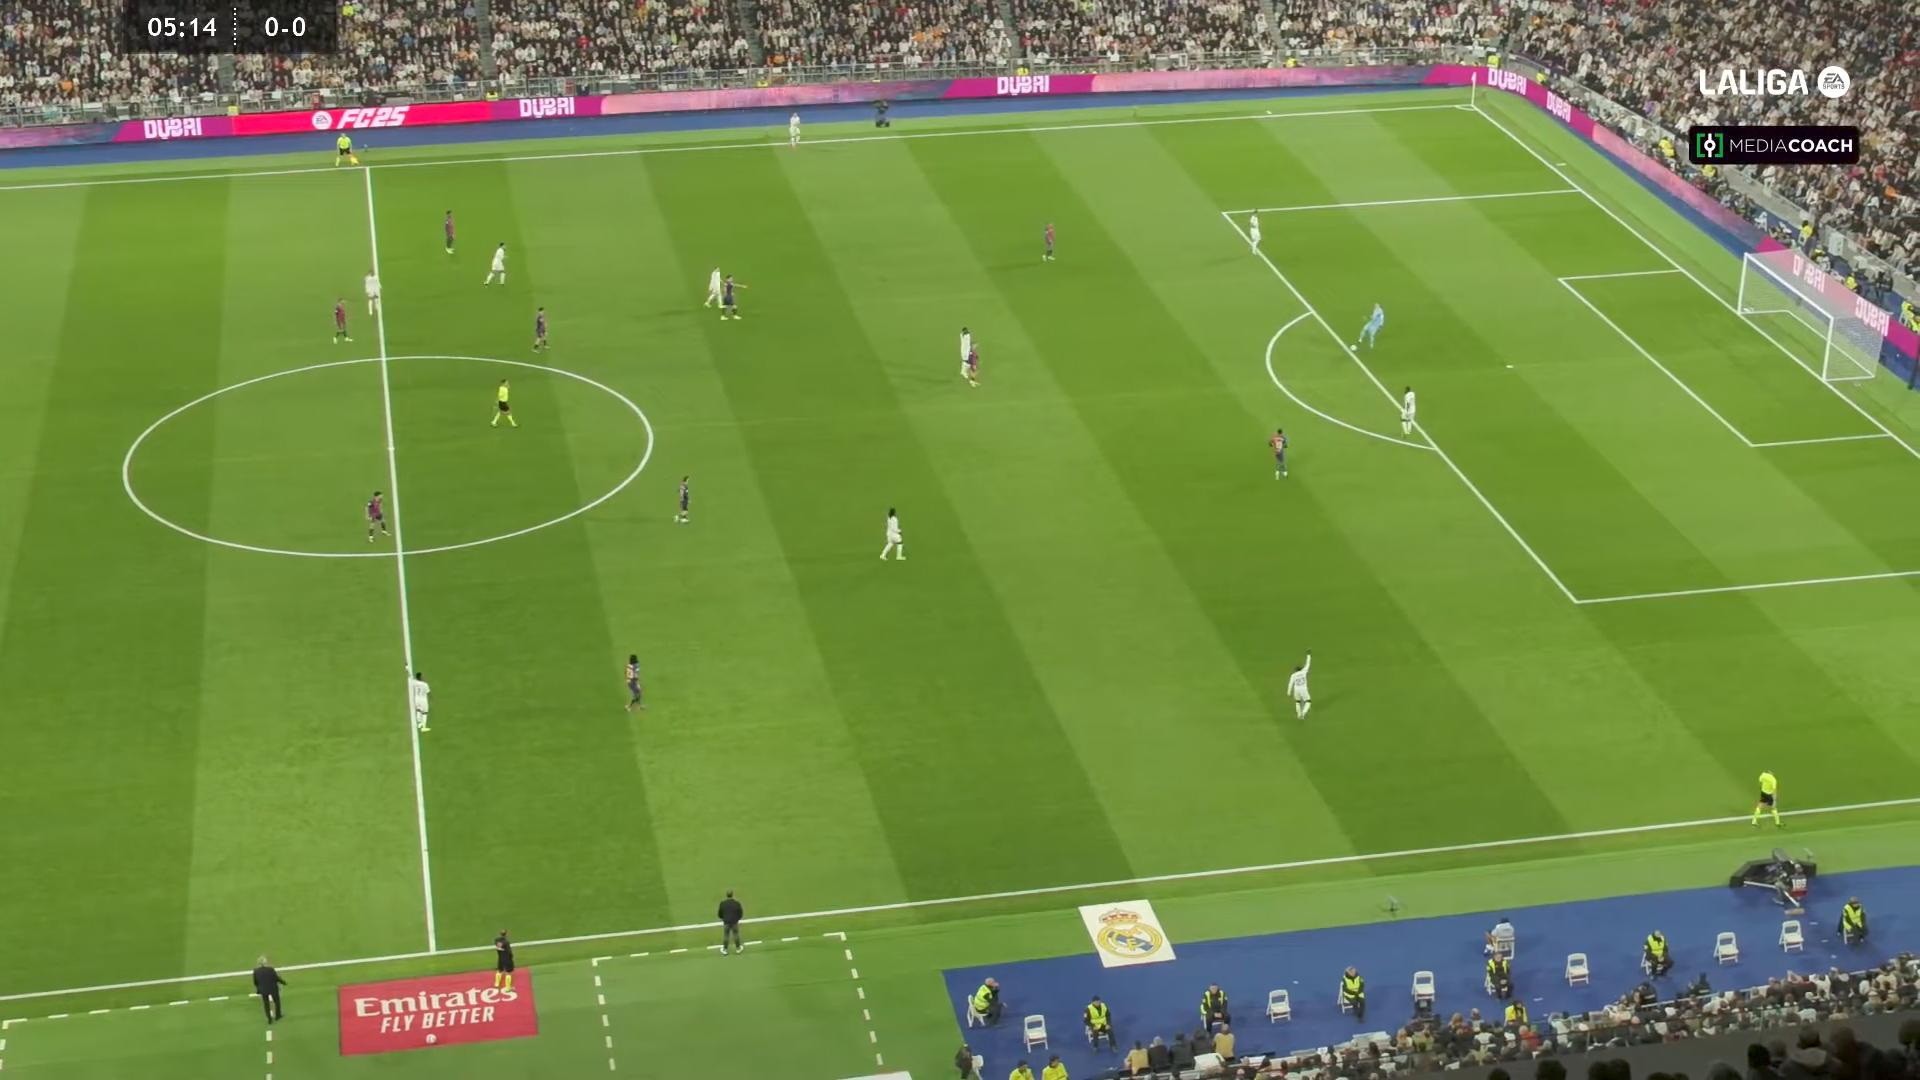ball: (1348, 344, 1358, 352)
goalkeeper: (1355, 301, 1384, 350)
player: (1285, 652, 1313, 720), (1751, 769, 1782, 827), (878, 506, 906, 561), (364, 489, 390, 542), (410, 670, 430, 732), (623, 653, 644, 711), (718, 273, 742, 321), (1267, 427, 1288, 479), (483, 241, 507, 285), (331, 296, 352, 343), (363, 268, 382, 316), (1399, 385, 1416, 435), (673, 474, 690, 524), (703, 266, 723, 308), (531, 305, 549, 350), (1246, 208, 1262, 254), (966, 341, 981, 389), (959, 327, 972, 379), (1040, 222, 1056, 261), (442, 209, 455, 254), (788, 113, 802, 149)
referee: (492, 928, 515, 996), (489, 377, 517, 427)
staff: (252, 953, 287, 1023), (1082, 994, 1116, 1052), (717, 890, 744, 955), (1836, 895, 1867, 946)
